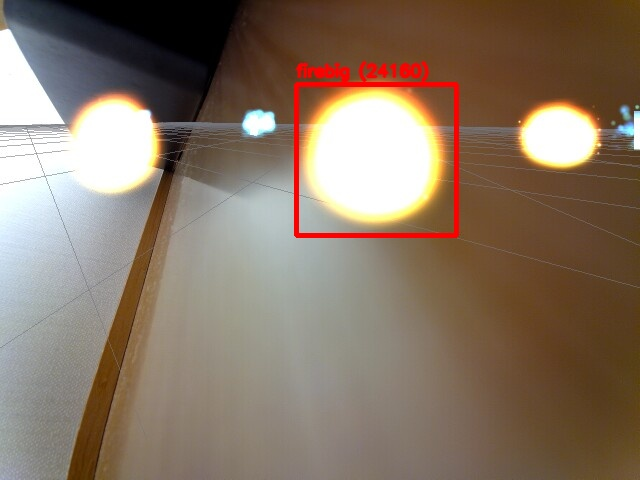firebig: (296, 84, 456, 235)
